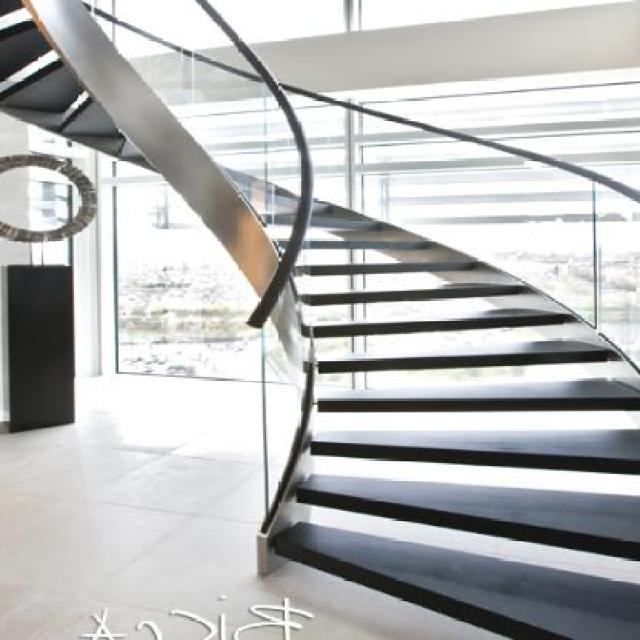stair: (258, 2, 640, 640)
